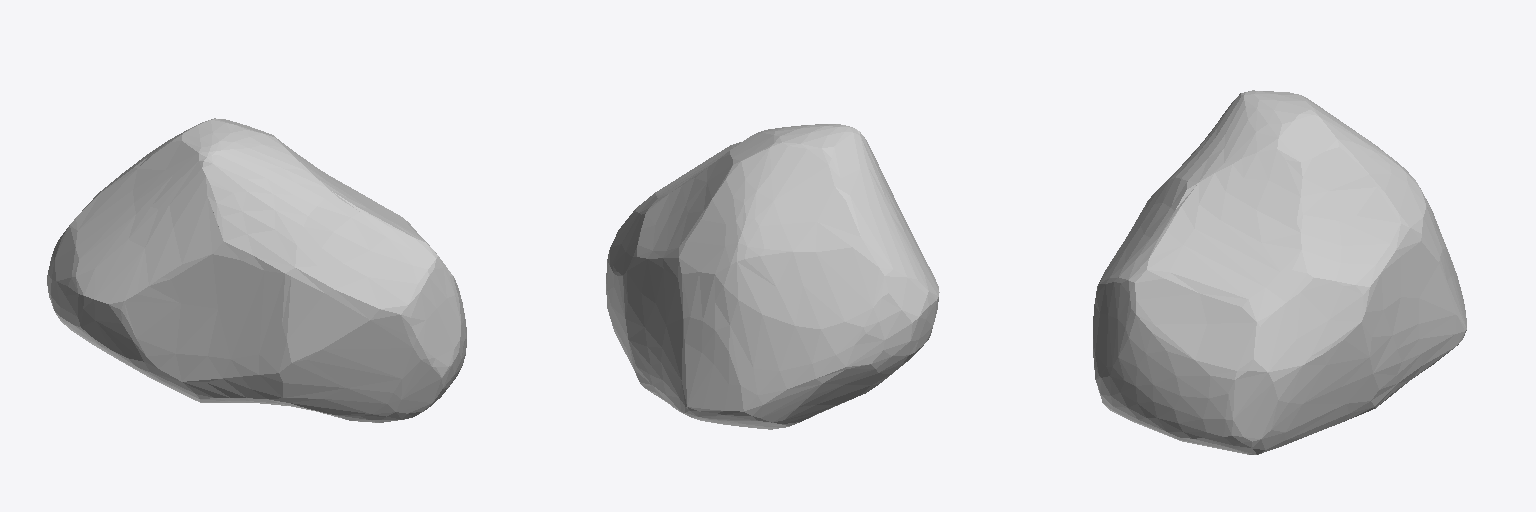
Rendered from throw_rock.obj.
3 renders of one model, left to right at view 1: azimuth 30°, elevation 25°; view 2: azimuth 150°, elevation 25°; view 3: azimuth 270°, elevation 25°, orthographic.
Parts seen in each view (by area): view 1: throw_rock; view 2: throw_rock; view 3: throw_rock.
Part boxes in pixels (left/top/right/bottom): throw_rock: left=47, top=118, right=466, bottom=422; throw_rock: left=606, top=124, right=939, bottom=429; throw_rock: left=1093, top=90, right=1466, bottom=454.
Size of the model in its own units: 2.81 by 2.05 by 2.59.